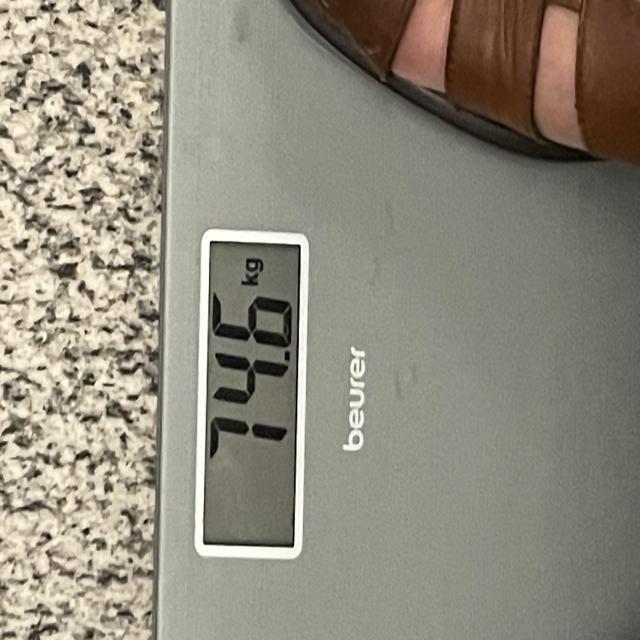ws: (191, 231, 309, 564)
